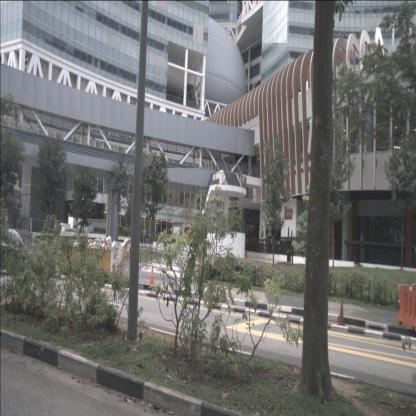human-pedestrian-adult: (141, 226, 147, 246), (53, 220, 57, 235), (79, 220, 82, 237)
movable_object-barrier: (396, 285, 416, 331)
movable_object-trafficcone: (337, 298, 345, 326), (148, 264, 156, 286)
vehicle-car: (0, 228, 56, 281)
